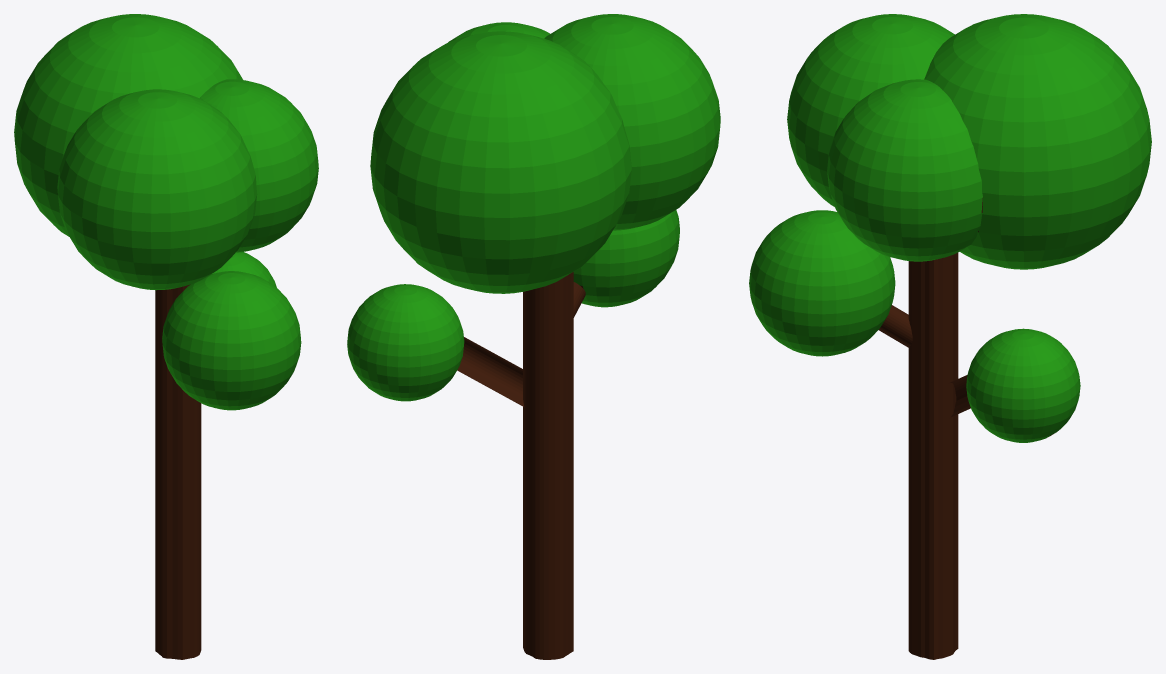
Rendered from Tree.fbx.
The picture shows the model from 3 angles, left to right: view 1: azimuth 30°, elevation 25°; view 2: azimuth 150°, elevation 25°; view 3: azimuth 270°, elevation 25°; orthographic projection. The views are drawn at different scales.
Visible parts, largest first — view 1: Cylinder; view 2: Cylinder; view 3: Cylinder.
Part boxes in pixels (x1,y1,x2,y2): Cylinder: (14, 14, 318, 659); Cylinder: (347, 14, 720, 659); Cylinder: (749, 14, 1151, 659).
Bounding box in the file's own units: 1374 × 2953 × 1731.
